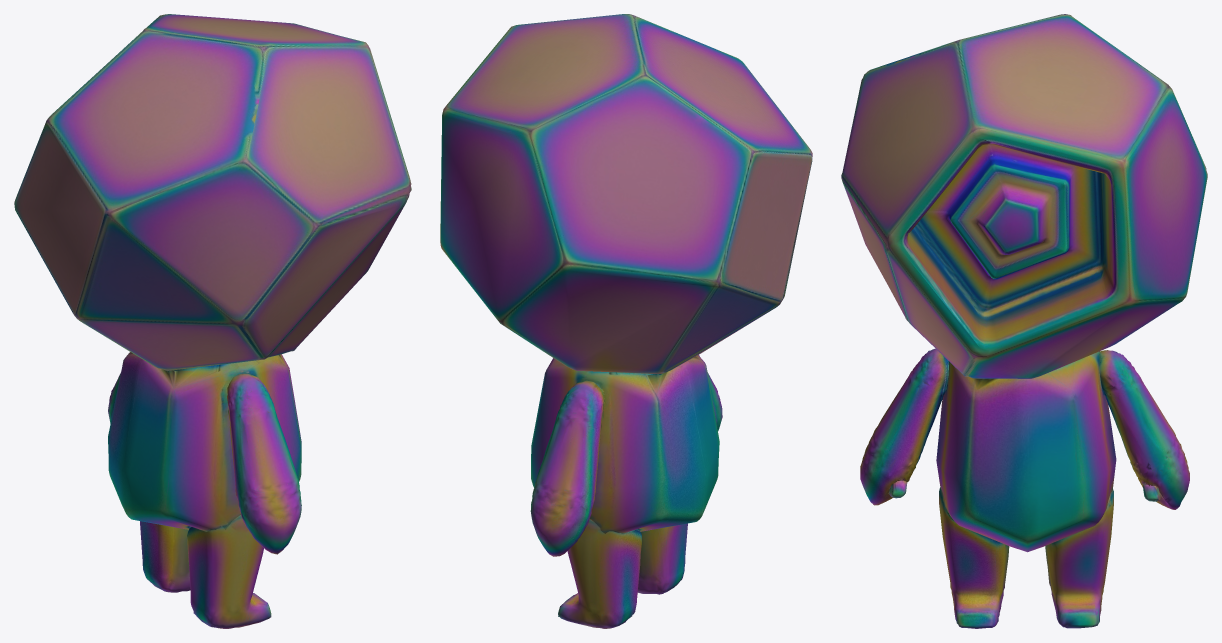
File: polypal_iridescent.glb
3 views of the same model, side by side, from view 1: azimuth 30°, elevation 25°; view 2: azimuth 150°, elevation 25°; view 3: azimuth 270°, elevation 25° (orthographic). The views are drawn at different scales.
Visible parts, largest first — view 1: tripo_node_498ba02e-410d-42e0-9e7d-1d1843eb7bc0; view 2: tripo_node_498ba02e-410d-42e0-9e7d-1d1843eb7bc0; view 3: tripo_node_498ba02e-410d-42e0-9e7d-1d1843eb7bc0.
Part boxes in pixels (<box>): tripo_node_498ba02e-410d-42e0-9e7d-1d1843eb7bc0: <box>14,14,411,628</box>; tripo_node_498ba02e-410d-42e0-9e7d-1d1843eb7bc0: <box>440,14,812,628</box>; tripo_node_498ba02e-410d-42e0-9e7d-1d1843eb7bc0: <box>841,14,1207,628</box>.
Bounding box in the file's own units: 0.5215 × 0.998 × 0.5645.
1 material, 1 textured.
